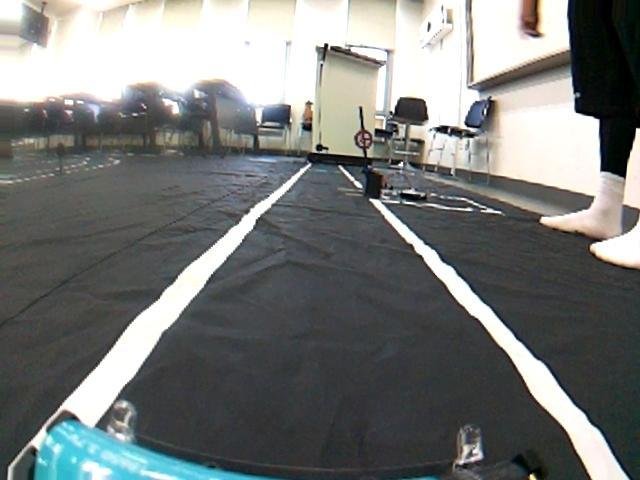sign_stop: (353, 127, 375, 150)
straight: (5, 201, 635, 480)
